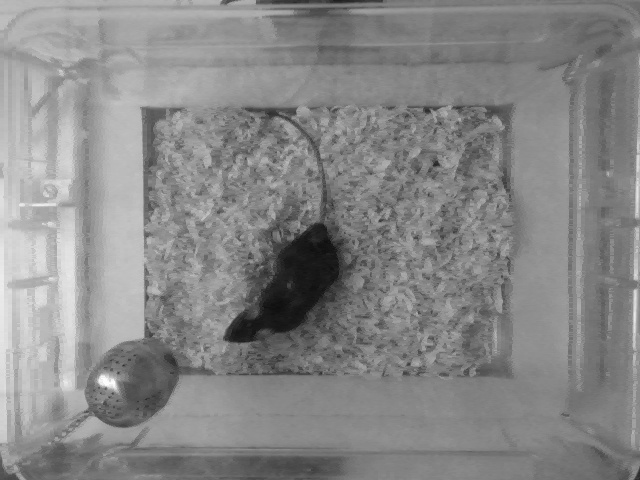mice: (220, 106, 342, 344)
